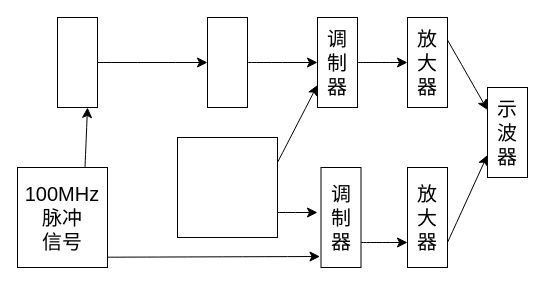
This 545x285 diagram has some shape labels left out. Here are the shapes that lost their labels. From the top down, the centre of each, then its label:
At pixel 77 62: "发射器".
At pixel 227 62: "光电 池".
At pixel 227 187: "99.545MHz 脉冲 信号".
